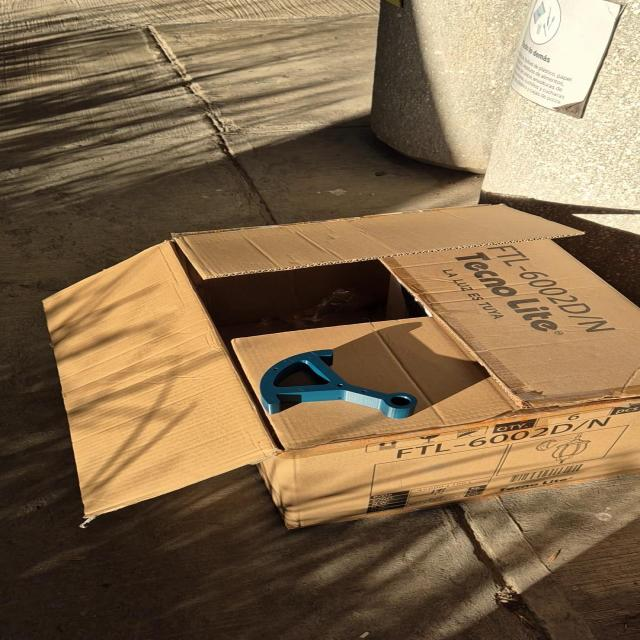haptic: (258, 349, 418, 419)
